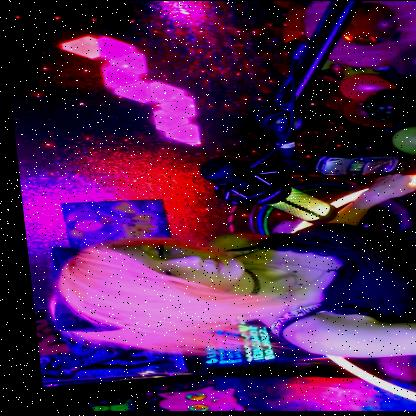streamer: (39, 173, 416, 357)
